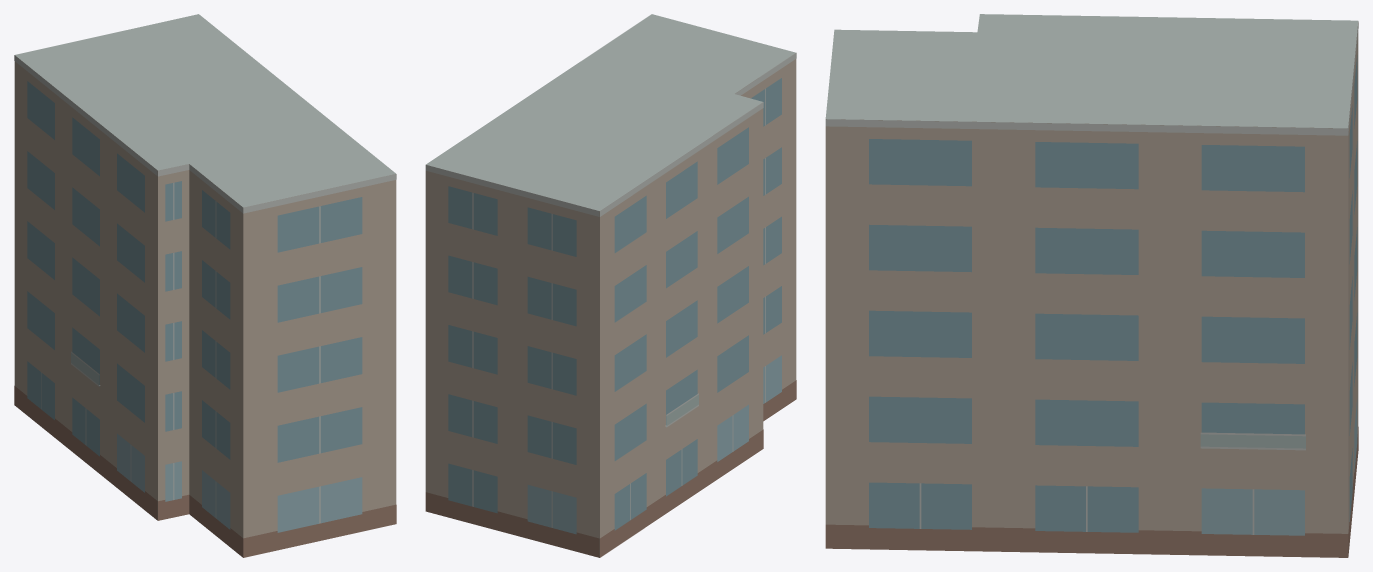
The model's file is survey-upis-32774105.glb.
3 views of the same model, side by side, from view 1: azimuth 30°, elevation 25°; view 2: azimuth 150°, elevation 25°; view 3: azimuth 270°, elevation 25° (orthographic). The views are drawn at different scales.
Visible parts, largest first — view 1: survey-upis-32774105.tmp; view 2: survey-upis-32774105.tmp; view 3: survey-upis-32774105.tmp.
Part boxes in pixels (left/top/right/bottom): survey-upis-32774105.tmp: left=14, top=14, right=396, bottom=557; survey-upis-32774105.tmp: left=425, top=14, right=796, bottom=557; survey-upis-32774105.tmp: left=825, top=14, right=1358, bottom=557.
Size of the model in its own units: 8.18 by 14.3 by 16.09.
